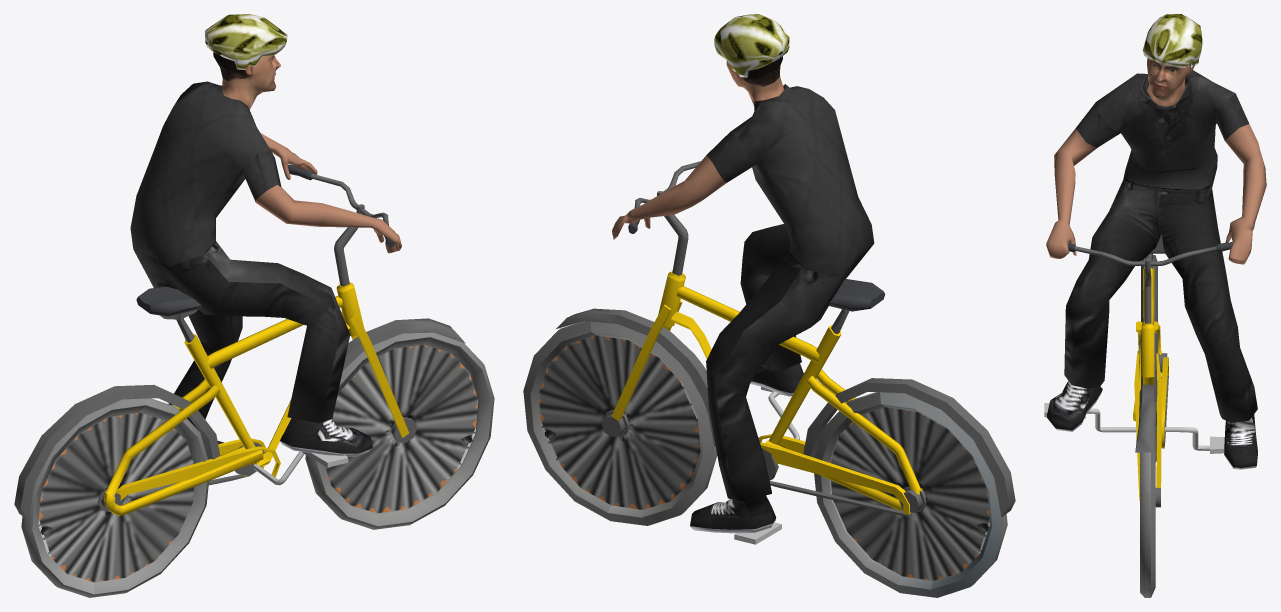
File: bikersep.obj
The picture shows the model from 3 angles, left to right: view 1: azimuth 30°, elevation 25°; view 2: azimuth 150°, elevation 25°; view 3: azimuth 270°, elevation 25°; orthographic projection. The views are drawn at different scales.
Visible parts, largest first — view 1: male1591Mesh.002_male1591.001, Wheel_Back.002_Cylinder.002, Wheel_Front.002_Cylinder.006, bike.002_Cylinder.001, Pedlle.001_Cube.001; view 2: male1591Mesh.002_male1591.001, Wheel_Front.002_Cylinder.006, Wheel_Back.002_Cylinder.002, bike.002_Cylinder.001, Pedlle.001_Cube.001; view 3: male1591Mesh.002_male1591.001, bike.002_Cylinder.001, Wheel_Front.002_Cylinder.006, Pedlle.001_Cube.001.
Part boxes in pixels (x1,y1,x2,y2): male1591Mesh.002_male1591.001: (130,14,401,456); Wheel_Back.002_Cylinder.002: (21,398,208,597); Wheel_Front.002_Cylinder.006: (305,332,494,529); bike.002_Cylinder.001: (14,164,465,519); Pedlle.001_Cube.001: (250,451,348,485); male1591Mesh.002_male1591.001: (612,14,874,533); Wheel_Front.002_Cylinder.006: (523,321,717,525); Wheel_Back.002_Cylinder.002: (814,392,1007,597); bike.002_Cylinder.001: (556,161,1015,517); Pedlle.001_Cube.001: (734,386,799,544); male1591Mesh.002_male1591.001: (1046,14,1266,469); bike.002_Cylinder.001: (1067,234,1233,507); Wheel_Front.002_Cylinder.006: (1140,425,1155,597); Pedlle.001_Cube.001: (1044,403,1224,453).
Bounding box in the file's own units: 1.69 × 1.82 × 0.7282.
5 materials, 4 textured.
